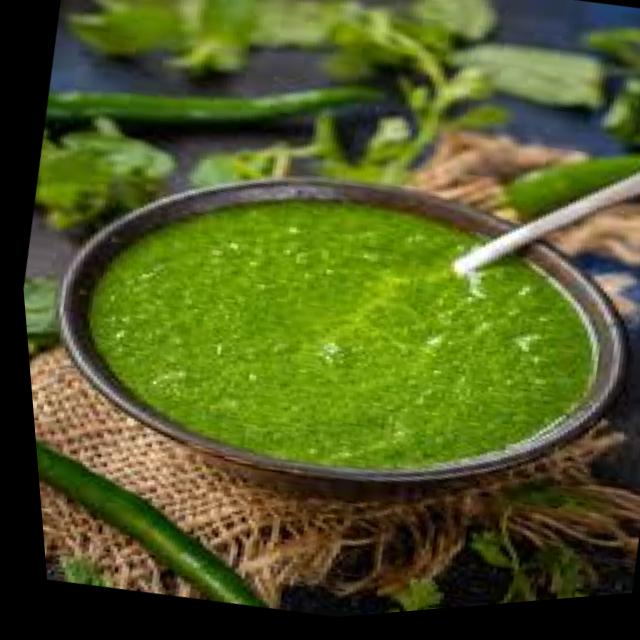GREEN CHUTNEY: (42, 137, 620, 493)
